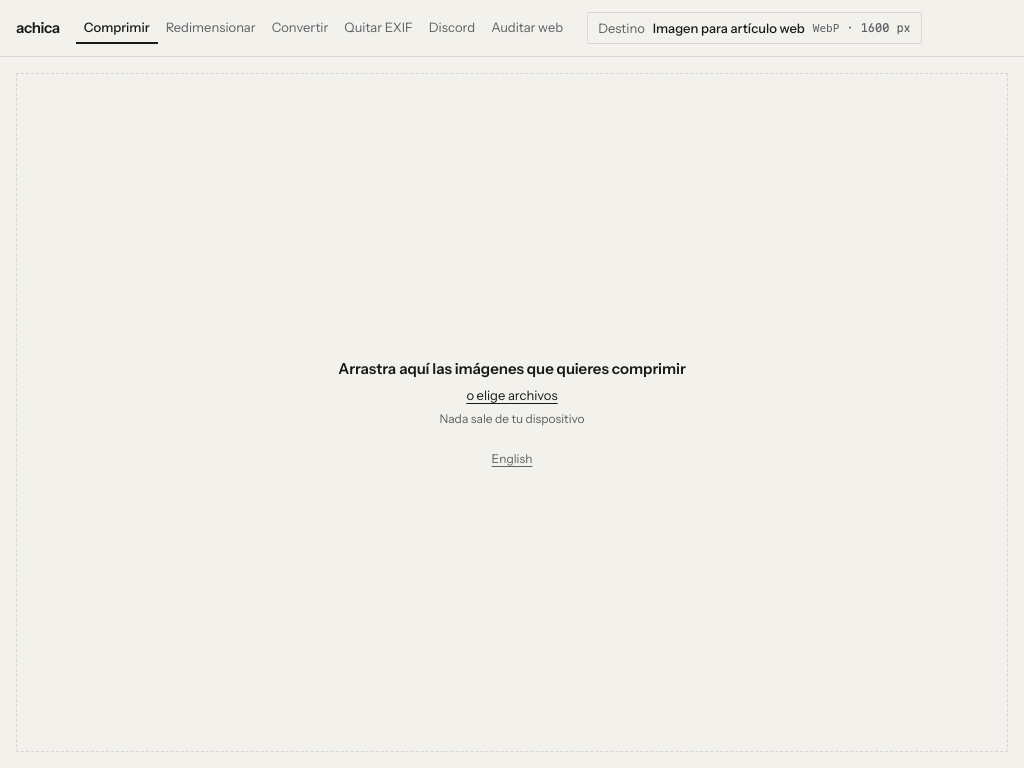
the weight ceiling › takes a ceiling typed by hand, and says when it is not one
Click the button "Destino Imagen para artículo web WebP · 1600 px" at (754,28), box x1=587 y1=12 x2=922 y2=44
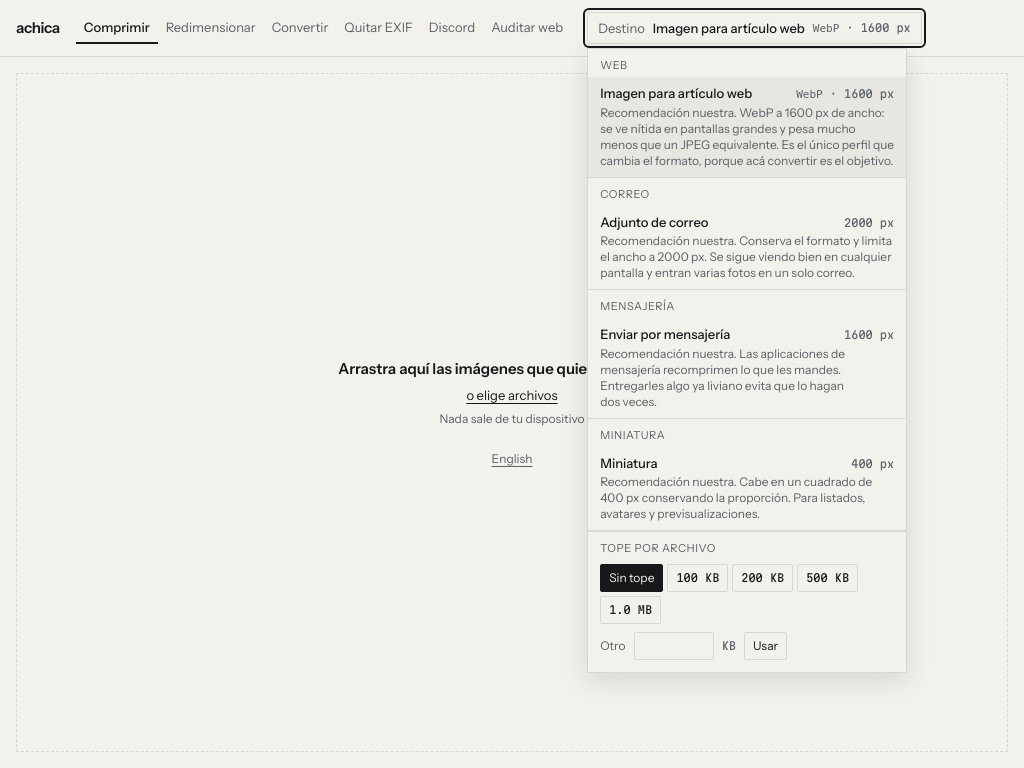
Type "mucho" into the field labelled "Otro" at (674,646), box x1=634 y1=632 x2=714 y2=660
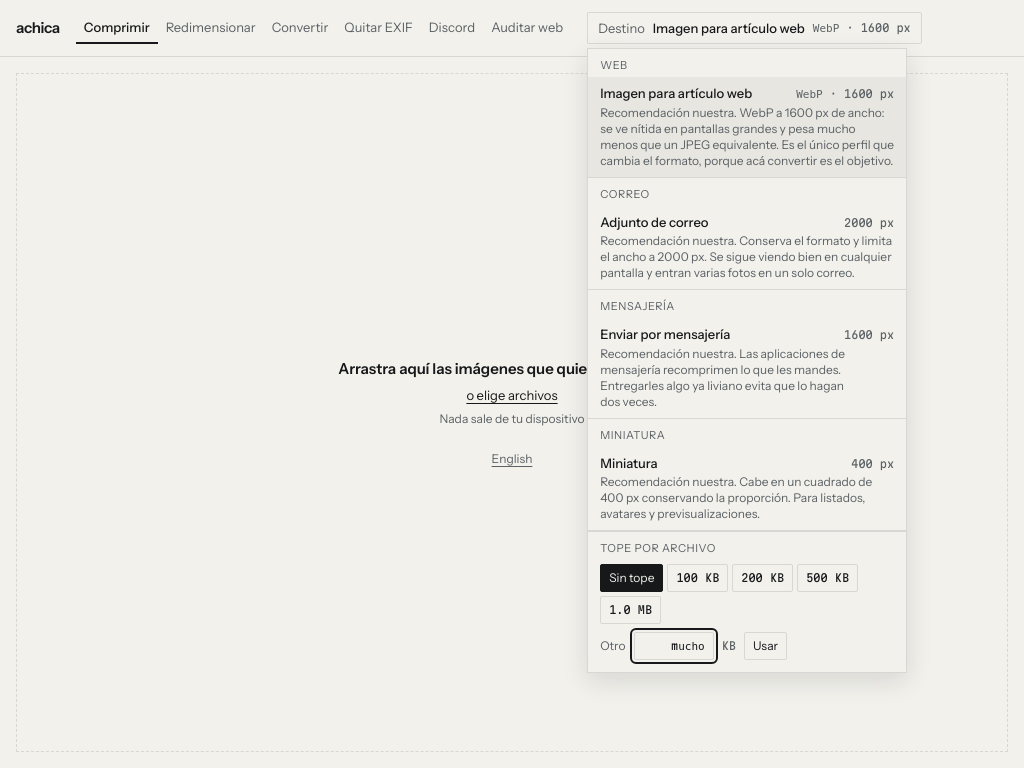
Click the button "Usar" at (766,646), box x1=744 y1=632 x2=787 y2=660
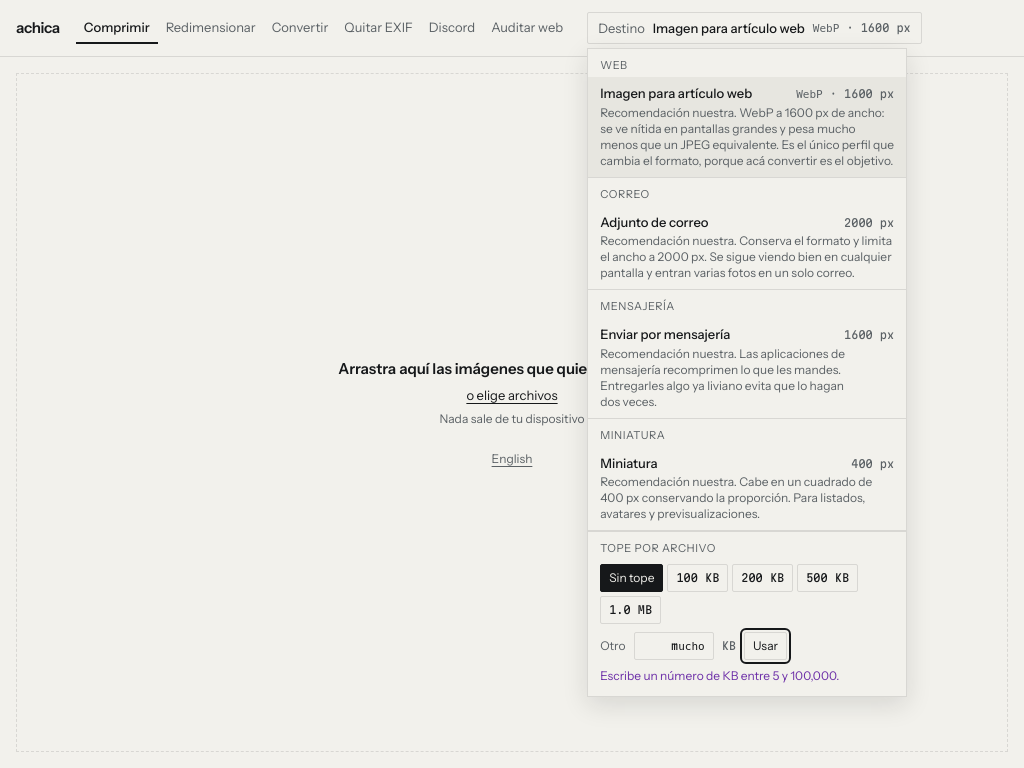
Expected: the message shows "entre 5 y", x1=600 y1=668 x2=839 y2=683
Replace the text in the field labelled "Otro" with "250" at (674,646), box x1=634 y1=632 x2=714 y2=660
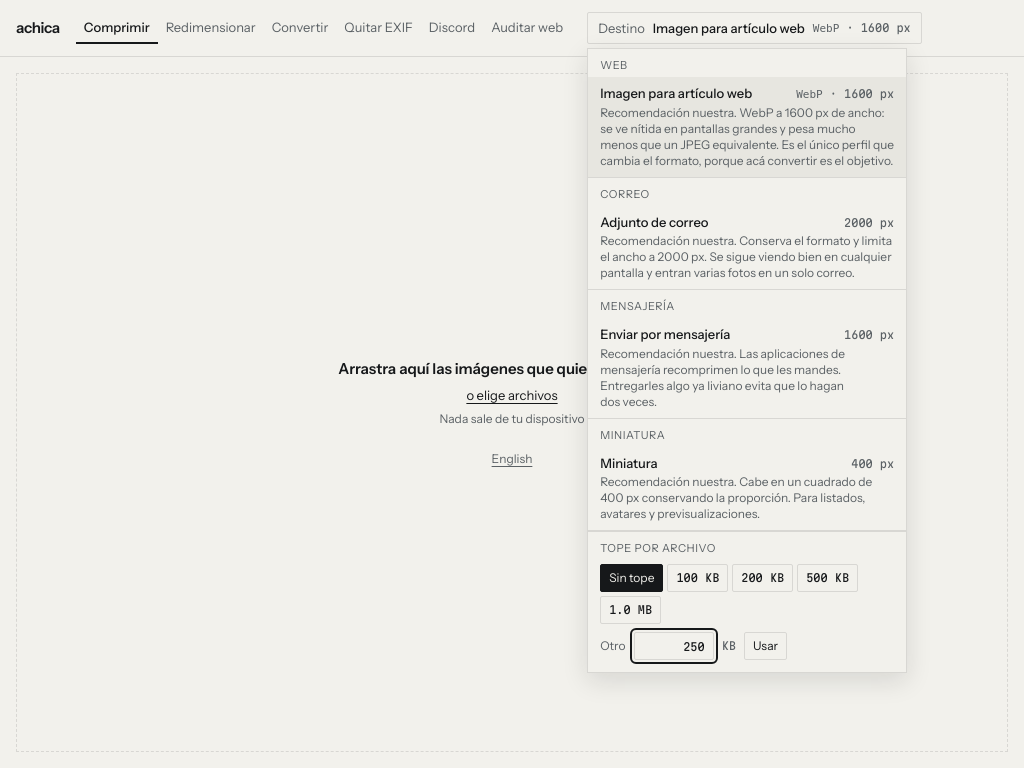
Click the button "Usar" at (766,646), box x1=744 y1=632 x2=787 y2=660
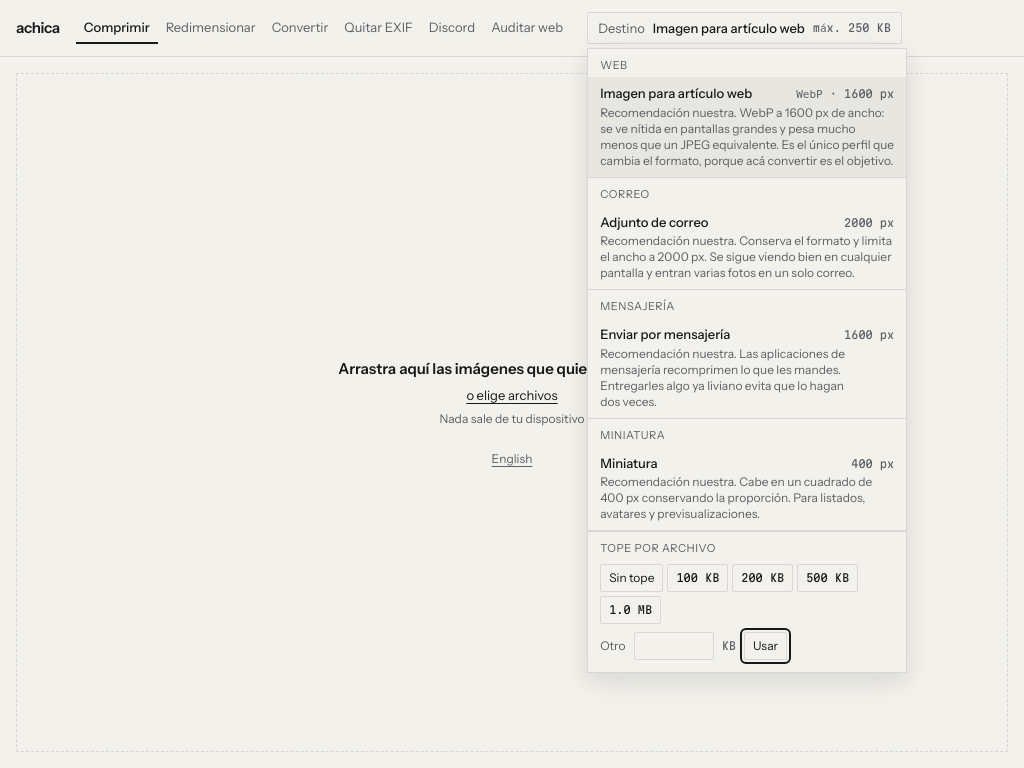
Expected: the button "Destino Imagen para artículo web máx. 250 KB" is shown, x1=587 y1=12 x2=902 y2=44
